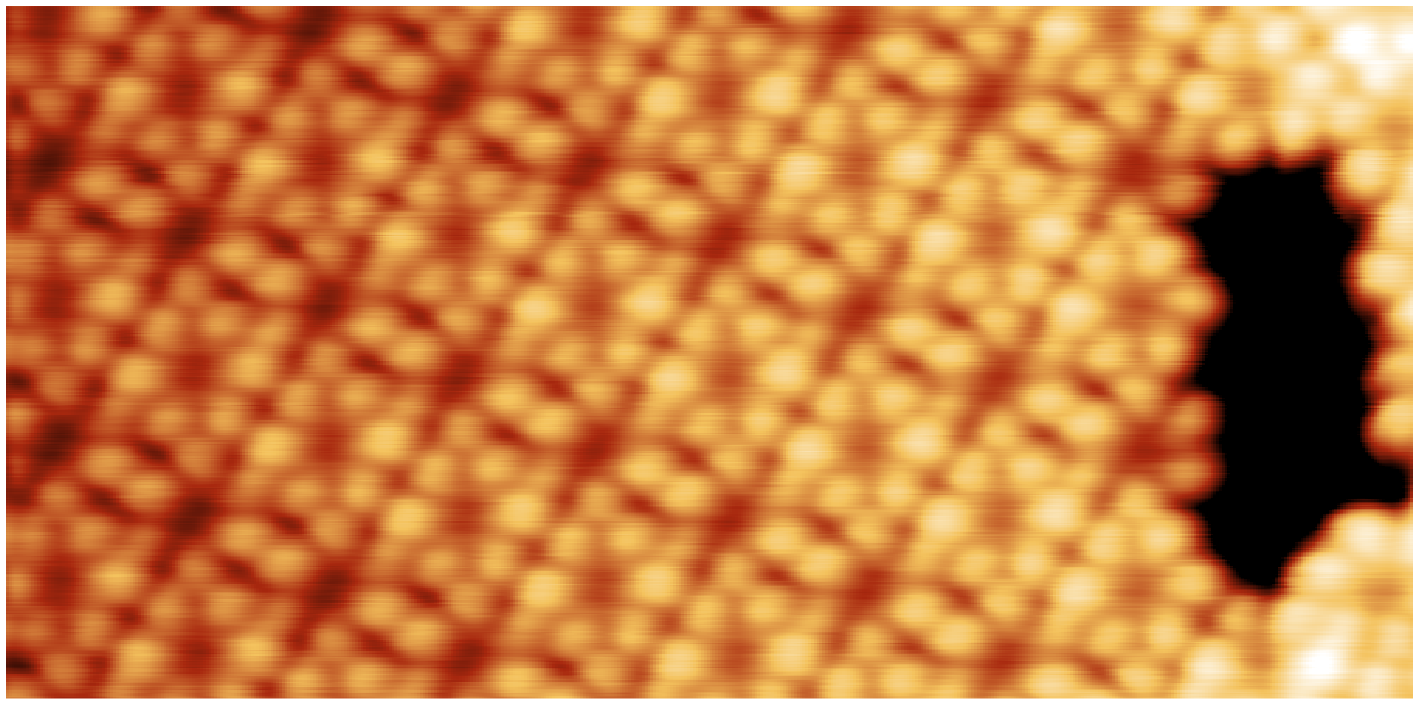L: (1061, 372, 1219, 526), (910, 23, 1068, 174), (796, 504, 946, 662), (119, 436, 271, 591), (252, 228, 405, 380), (112, 158, 266, 309), (929, 297, 1076, 455), (380, 14, 529, 169), (259, 508, 408, 662), (386, 297, 534, 452), (659, 441, 810, 592), (1059, 91, 1213, 238), (520, 87, 666, 241), (790, 230, 937, 382), (525, 370, 674, 519), (657, 158, 802, 309), (1, 369, 137, 518)
R: (519, 514, 683, 663), (908, 165, 1073, 306), (1176, 14, 1335, 160), (381, 163, 541, 308), (1052, 511, 1215, 653), (96, 23, 264, 160), (1054, 231, 1217, 372), (649, 304, 813, 443), (508, 235, 674, 372), (386, 445, 546, 587), (642, 26, 800, 167), (113, 302, 271, 441), (244, 94, 405, 230), (788, 375, 947, 511), (778, 94, 937, 230), (251, 372, 407, 509), (925, 447, 1076, 584), (1, 227, 139, 372), (112, 587, 275, 705)
